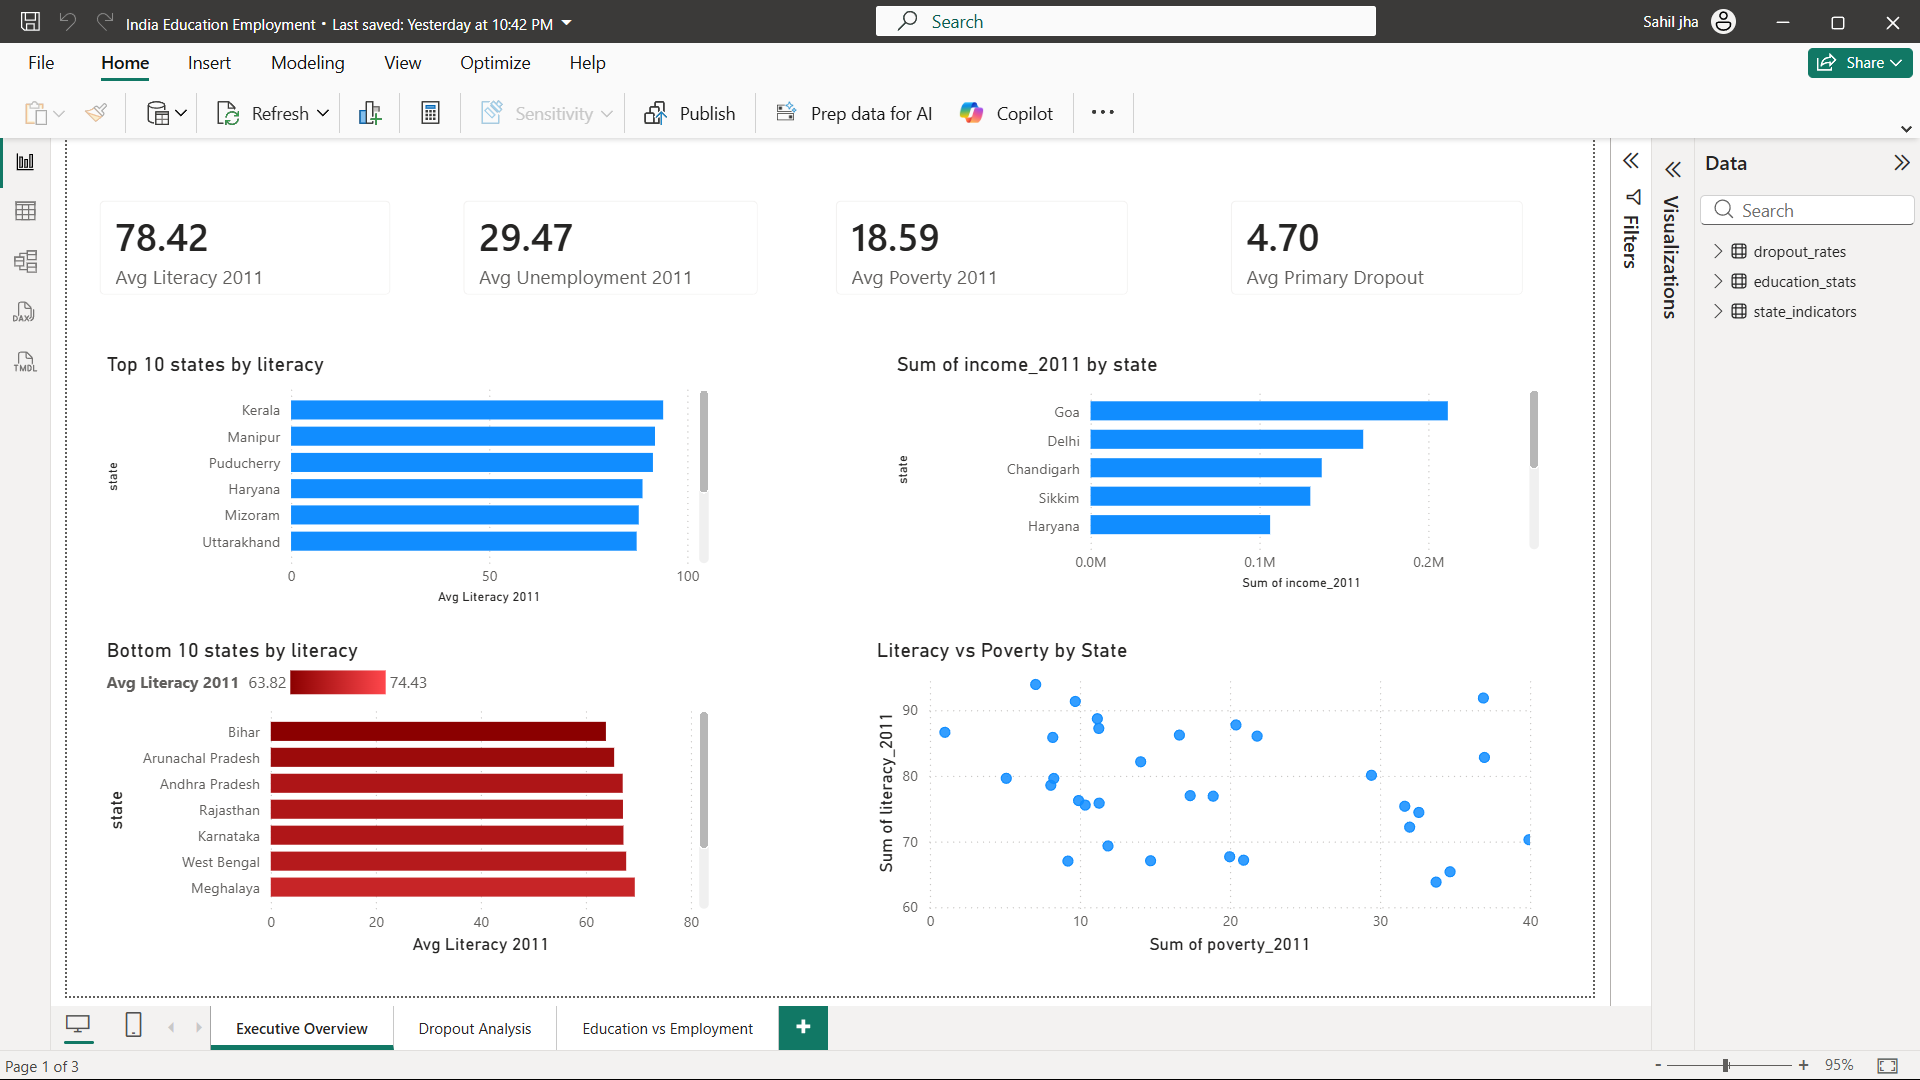

Layout of this report page (visuals, bound fields, positions):
{"tool":"powerbi","page":{"name":" Executive Overview","canvas":[1280,720],"ordinal":0},"visuals":[{"type":"cardVisual","fields":{"Data":["state_indicators.Avg Literacy 2011"]},"box":[11,35.7,278.6,113.9],"z":0},{"type":"cardVisual","fields":{"Data":["state_indicators.Avg Poverty 2011"]},"box":[628.5,35.7,279.9,113.9],"z":1000},{"type":"cardVisual","fields":{"Data":["dropout_rates.Avg Primary Dropout"]},"box":[959.2,35.7,279.9,113.9],"z":2000},{"type":"cardVisual","fields":{"Data":["state_indicators.Avg Unemployment 2011"]},"box":[315.6,35.7,281.3,113.9],"z":3000},{"type":"barChart","title":"Top 10 states by literacy","fields":{"Category":["state_indicators.state"],"Y":["state_indicators.Avg Literacy 2011"]},"box":[27.9,179.1,515.1,216.3],"z":4000},{"type":"barChart","title":"Bottom 10 states by literacy","fields":{"Category":["state_indicators.state"],"Y":["state_indicators.Avg Literacy 2011"]},"box":[27.9,419.8,515.1,269.8],"z":5000},{"type":"scatterChart","title":"Literacy vs Poverty by State","fields":{"Category":["state_indicators.state"],"Y":["Sum(state_indicators.literacy_2011)"],"X":["Sum(state_indicators.poverty_2011)"]},"box":[674.4,419.8,565.1,269.8],"z":6000},{"type":"clusteredBarChart","fields":{"Category":["state_indicators.state"],"Y":["Sum(state_indicators.income_2011)"]},"box":[690.7,179.1,548.8,204.7],"z":7000}]}

Visuals, with their boxes on the page's 1280x720 design canvas (x1, y1, x2, y2). These are canvas units, not pixel positions in the 1920x1080 screenshot, which may show the page scaled, cropped or inside an application window:
cardVisual - state_indicators.Avg Literacy 2011: region(11, 36, 290, 150)
cardVisual - state_indicators.Avg Poverty 2011: region(628, 36, 908, 150)
cardVisual - dropout_rates.Avg Primary Dropout: region(959, 36, 1239, 150)
cardVisual - state_indicators.Avg Unemployment 2011: region(316, 36, 597, 150)
"Top 10 states by literacy" barChart: region(28, 179, 543, 395)
"Bottom 10 states by literacy" barChart: region(28, 420, 543, 690)
"Literacy vs Poverty by State" scatterChart: region(674, 420, 1240, 690)
clusteredBarChart - state_indicators.state x Sum(state_indicators.income_2011): region(691, 179, 1240, 384)
